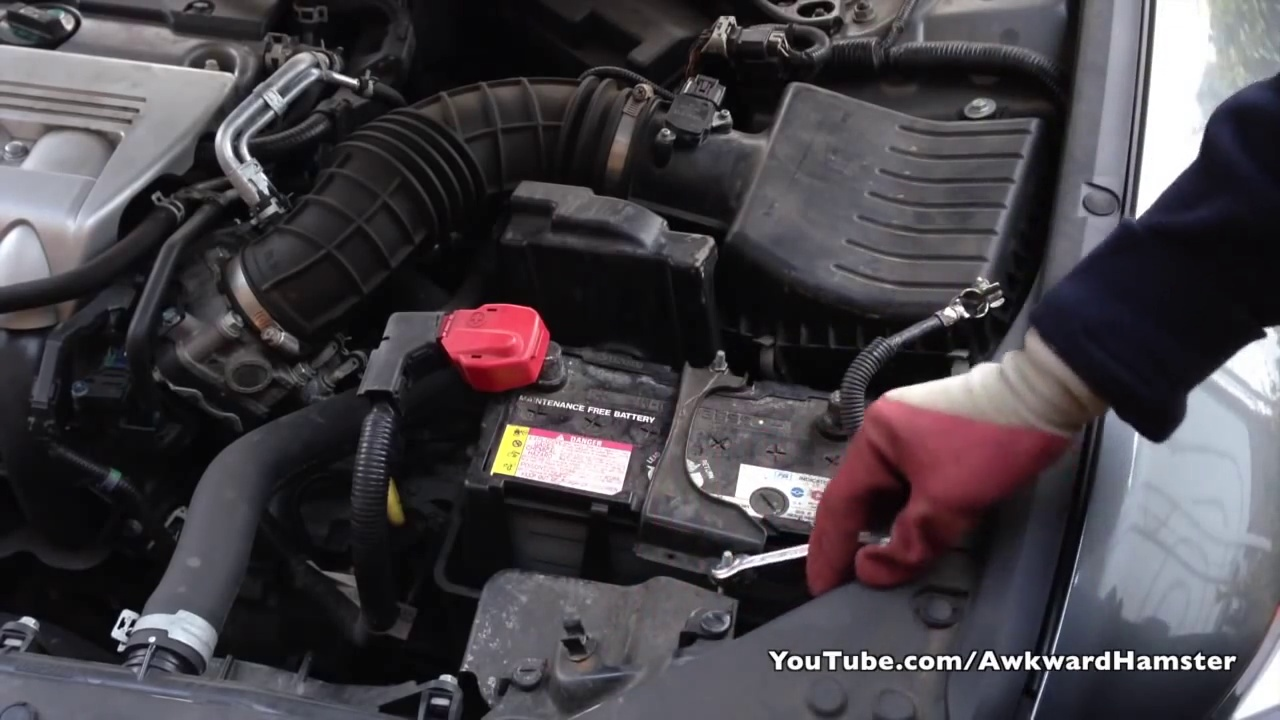battery: (459, 306, 909, 564)
neg_disconnected: (794, 361, 884, 446)
pos_connected: (401, 296, 581, 417)
